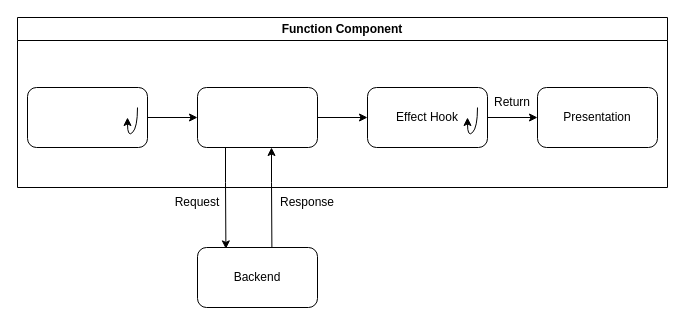
The diagram is 685 pixels wide and 325 high, and some of its shapes have lost their labels. The shapes that lost their labels are listed below. From the top down, each one's box as (x1, y1, x2, y2) in pixels, then its label:
(26, 86, 148, 148): State Hook
(196, 86, 318, 148): Container
